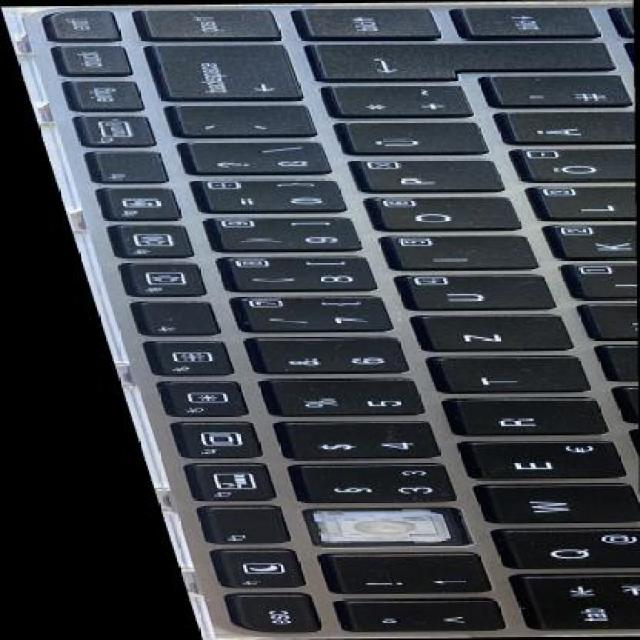Keyboard problems: (306, 509, 468, 543)
